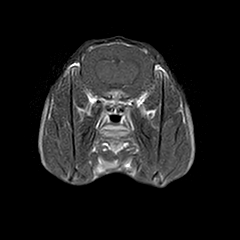Brain: (69, 13, 168, 111)
